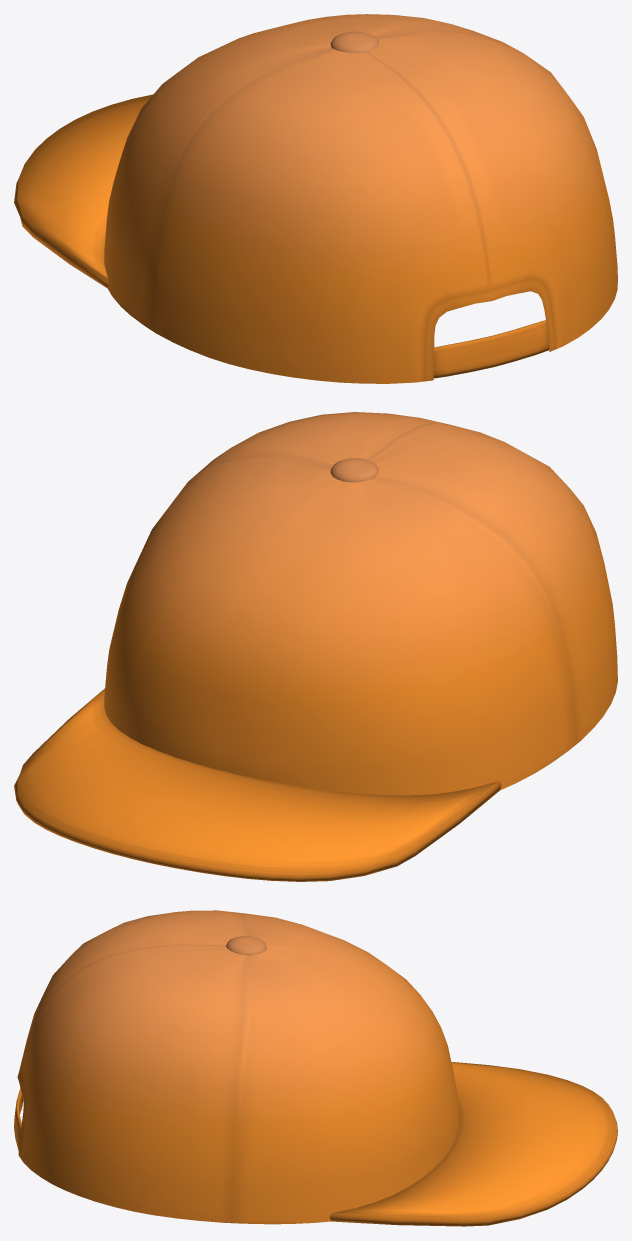
Rendered from Capred Orange.fbx.
3 views of the same model, one above another, from view 1: azimuth 30°, elevation 25°; view 2: azimuth 150°, elevation 25°; view 3: azimuth 270°, elevation 25° (orthographic). The views are drawn at different scales.
Parts seen in each view (by area): view 1: Capred Orange; view 2: Capred Orange; view 3: Capred Orange.
Part boxes in pixels (x1,y1,x2,y2): Capred Orange: [14, 14, 617, 383]; Capred Orange: [14, 412, 617, 881]; Capred Orange: [14, 910, 617, 1226].
Size of the model in its own units: 24.49 by 13.75 by 36.16.
